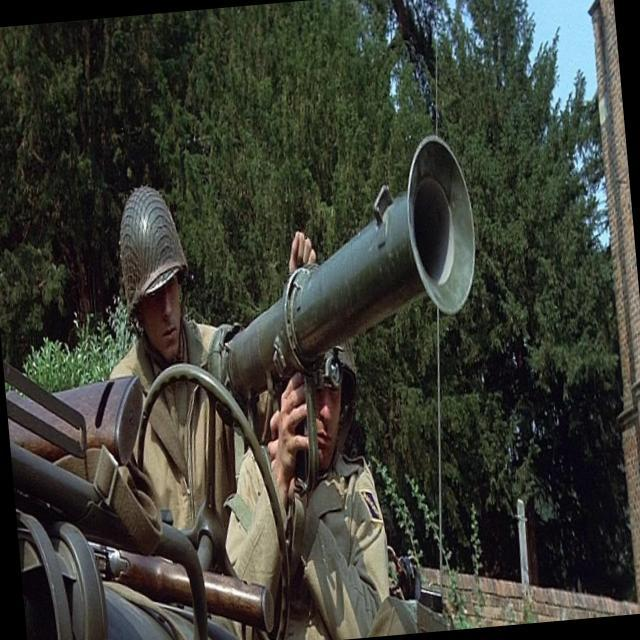rocket: (200, 130, 488, 410)
